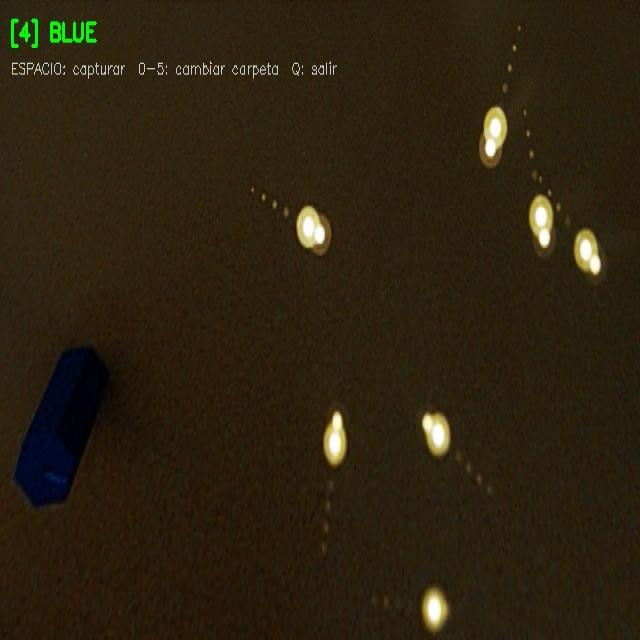blue: (14, 343, 110, 508)
